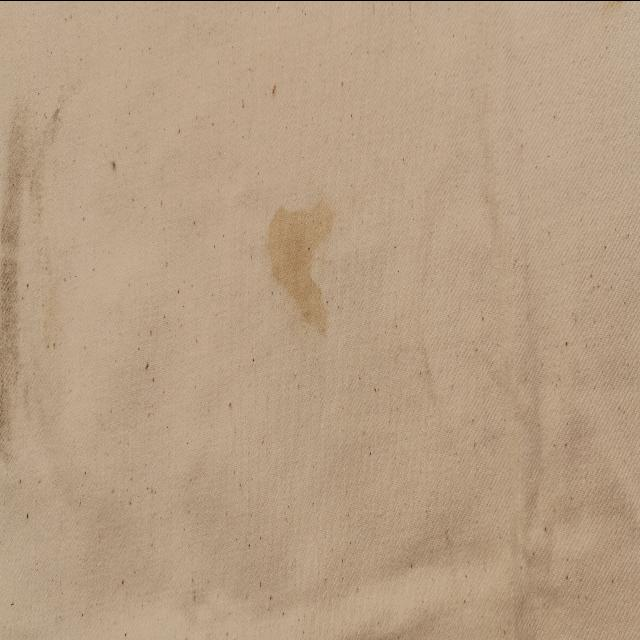taaaches: (0, 69, 72, 483), (250, 168, 344, 344)
